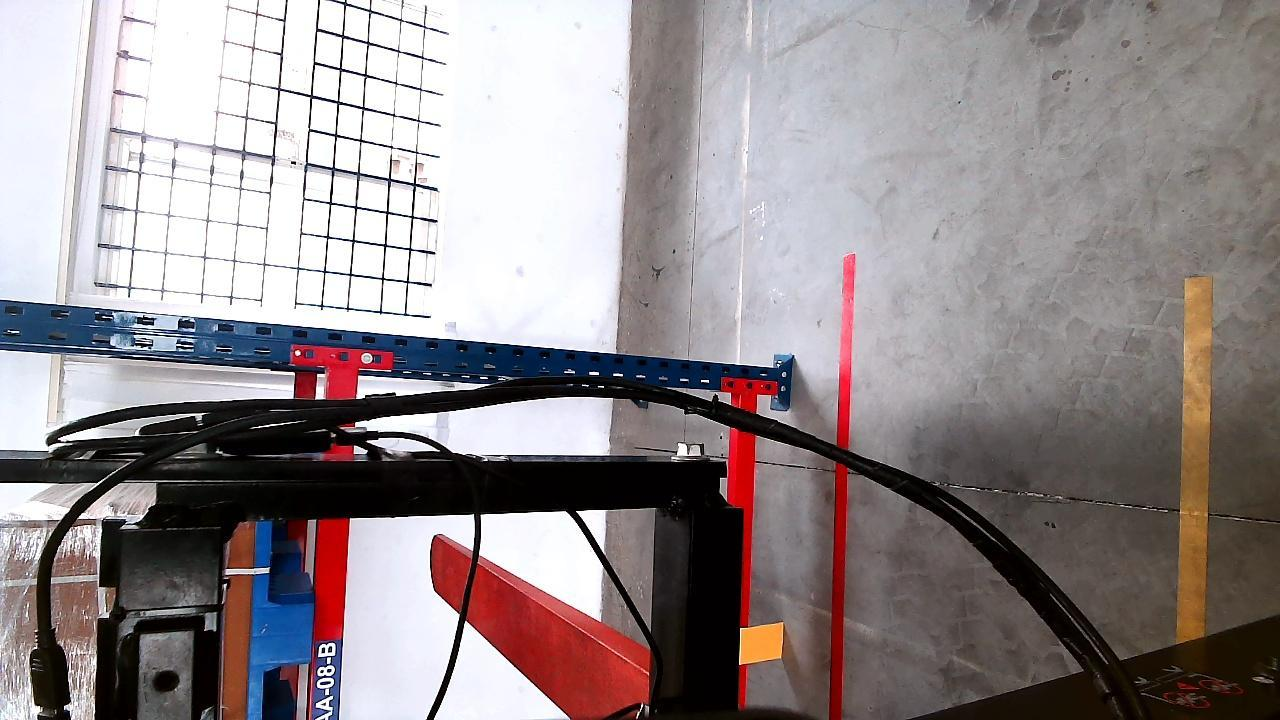red_line: (827, 250, 862, 720)
yellow_line: (1177, 267, 1214, 647)
